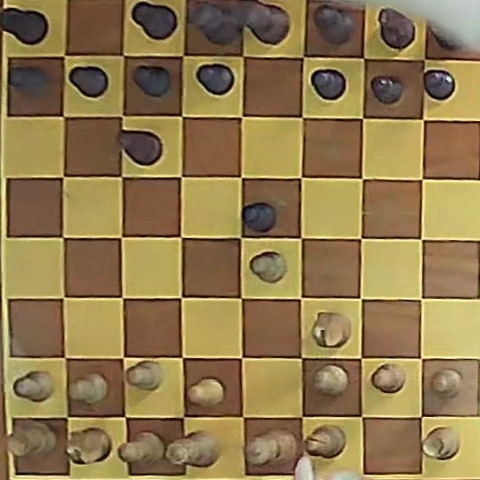black-bishop: (132, 2, 178, 41), (313, 4, 354, 45)
black-king: (231, 2, 290, 45)
black-knight: (118, 130, 162, 165), (378, 7, 414, 49)
black-pawn: (69, 65, 109, 98), (133, 64, 172, 97), (9, 65, 50, 95), (196, 64, 233, 95), (311, 69, 346, 100), (423, 69, 455, 100), (243, 202, 276, 232), (371, 75, 404, 104)
black-queen: (190, 2, 245, 46)
black-rook: (0, 7, 48, 45)
white-bishop: (120, 432, 166, 464), (306, 425, 345, 458), (250, 252, 286, 283)
white-king: (245, 428, 298, 465)
white-knight: (66, 427, 111, 464), (312, 312, 350, 347)
white-pawn: (14, 370, 55, 401), (69, 373, 108, 405), (312, 364, 348, 395), (126, 360, 162, 391), (187, 378, 224, 407), (371, 363, 405, 393), (431, 369, 461, 398)
white-queen: (165, 430, 220, 467)
white-rook: (8, 421, 56, 457), (422, 427, 460, 459)
